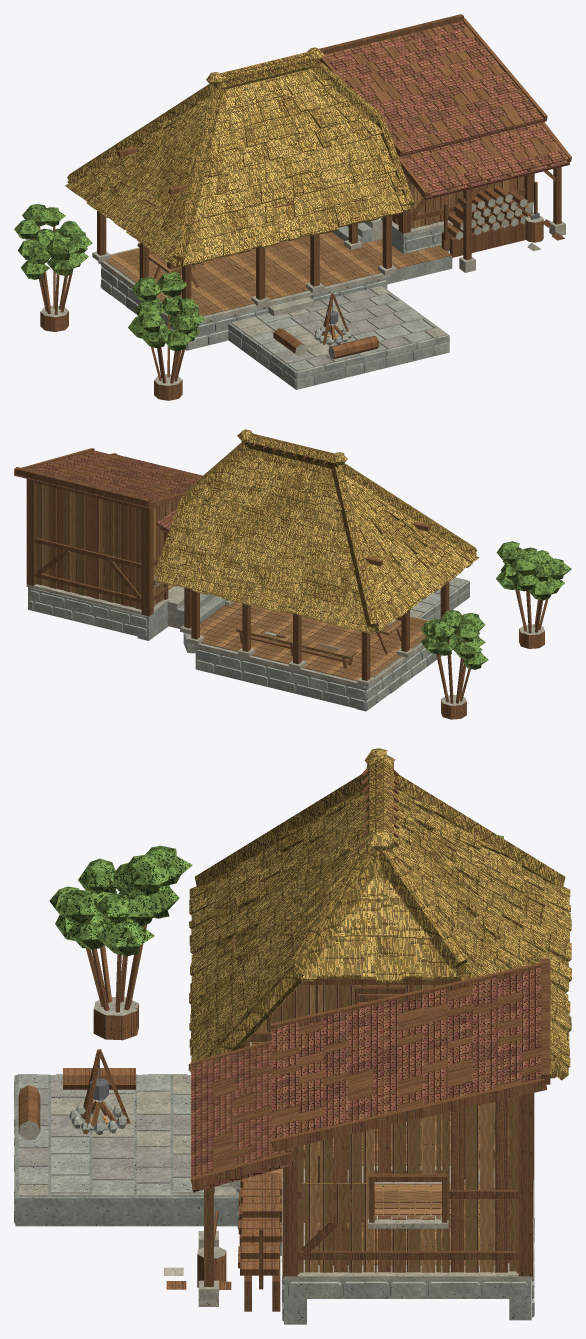
Rendered from survival.glb.
3 views of the same model, one above another, from view 1: azimuth 30°, elevation 25°; view 2: azimuth 150°, elevation 25°; view 3: azimuth 270°, elevation 25° (orthographic). The views are drawn at different scales.
Visible parts, largest first — view 1: Survival_RoofThatch, Survival_RoofStore, Survival_Coppice, Survival_FloorYard, Survival_FloorCanopy, Survival_ServiceLogPile_Stack, Survival_PlinthCanopy, Survival_PlinthYard, Survival_FrameCanopy, Survival_ShellStore, Survival_FloorPorch, Survival_FramePentice (+6 smaller); view 2: Survival_RoofThatch, Survival_ShellStore, Survival_Coppice, Survival_FloorCanopy, Survival_PlinthCanopy, Survival_RoofStore, Survival_ShellStoreBase, Survival_FrameCanopy, Survival_FurnishingCanopy, Survival_StepLink, Survival_FloorYard, Survival_PlinthYard; view 3: Survival_RoofThatch, Survival_RoofStore, Survival_ShellStore, Survival_FloorYard, Survival_Coppice, Survival_ShellStoreBase, Survival_ServiceLogPile_Stack, Survival_FloorStore, Survival_ServiceFirePit_Ring, Survival_FurnishingYard, Survival_FramePentice, Survival_FloorCanopy.
Part boxes in pixels (x1=…): Survival_RoofThatch: x1=65, y1=47, x2=414, y2=267; Survival_RoofStore: x1=319, y1=14, x2=571, y2=199; Survival_Coppice: x1=14, y1=204, x2=205, y2=400; Survival_FloorYard: x1=228, y1=286, x2=449, y2=389; Survival_FloorCanopy: x1=105, y1=232, x2=387, y2=322; Survival_ServiceLogPile_Stack: x1=441, y1=181, x2=565, y2=257; Survival_PlinthCanopy: x1=98, y1=247, x2=389, y2=350; Survival_PlinthYard: x1=228, y1=323, x2=449, y2=388; Survival_FrameCanopy: x1=92, y1=179, x2=396, y2=306; Survival_ShellStore: x1=392, y1=155, x2=534, y2=235; Survival_FloorPorch: x1=357, y1=239, x2=452, y2=284; Survival_FramePentice: x1=421, y1=164, x2=565, y2=272; Survival_RoofThatch: x1=154, y1=429, x2=479, y2=633; Survival_ShellStore: x1=26, y1=479, x2=179, y2=616; Survival_Coppice: x1=420, y1=541, x2=571, y2=719; Survival_FloorCanopy: x1=195, y1=602, x2=428, y2=689; Survival_PlinthCanopy: x1=183, y1=615, x2=442, y2=711; Survival_RoofStore: x1=14, y1=448, x2=202, y2=508; Survival_ShellStoreBase: x1=27, y1=584, x2=169, y2=640; Survival_FrameCanopy: x1=180, y1=543, x2=449, y2=686; Survival_FurnishingCanopy: x1=236, y1=617, x2=401, y2=668; Survival_StepLink: x1=167, y1=590, x2=226, y2=628; Survival_FloorYard: x1=410, y1=577, x2=469, y2=619; Survival_PlinthYard: x1=420, y1=577, x2=469, y2=620; Survival_RoofThatch: x1=188, y1=748, x2=571, y2=1080; Survival_RoofStore: x1=190, y1=958, x2=550, y2=1192; Survival_ShellStore: x1=283, y1=1093, x2=534, y2=1279; Survival_FloorYard: x1=15, y1=1075, x2=237, y2=1226; Survival_Coppice: x1=49, y1=835, x2=503, y2=1040; Survival_ShellStoreBase: x1=281, y1=1169, x2=534, y2=1324; Survival_ServiceLogPile_Stack: x1=164, y1=1173, x2=282, y2=1311; Survival_FloorStore: x1=362, y1=1174, x2=494, y2=1265; Survival_ServiceFirePit_Ring: x1=69, y1=1049, x2=130, y2=1134; Survival_FurnishingYard: x1=18, y1=1068, x2=135, y2=1140; Survival_FramePentice: x1=198, y1=1187, x2=218, y2=1306; Survival_FloorCanopy: x1=249, y1=1042, x2=494, y2=1180.
Size of the model in its own units: 16.08 by 7.53 by 9.94.
Materials: 30 (23 with a texture image).
